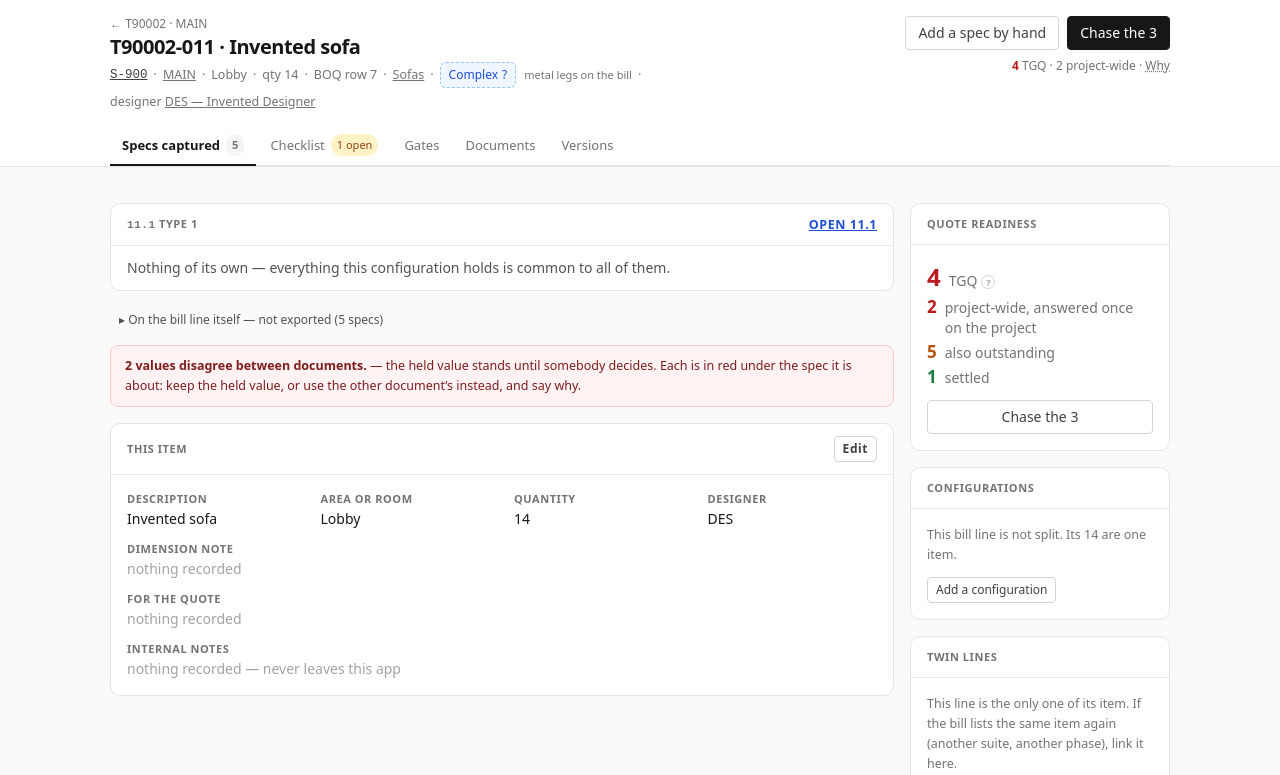
Test case: a split bill line › folds its own specs and shows what the configurations share
Expected: the text "Invented cloth" is not shown
Click the button "▸ On the bill line itself — not exported (5 specs)" at [251, 320], box 110,307 -> 392,333
(page scrolled)
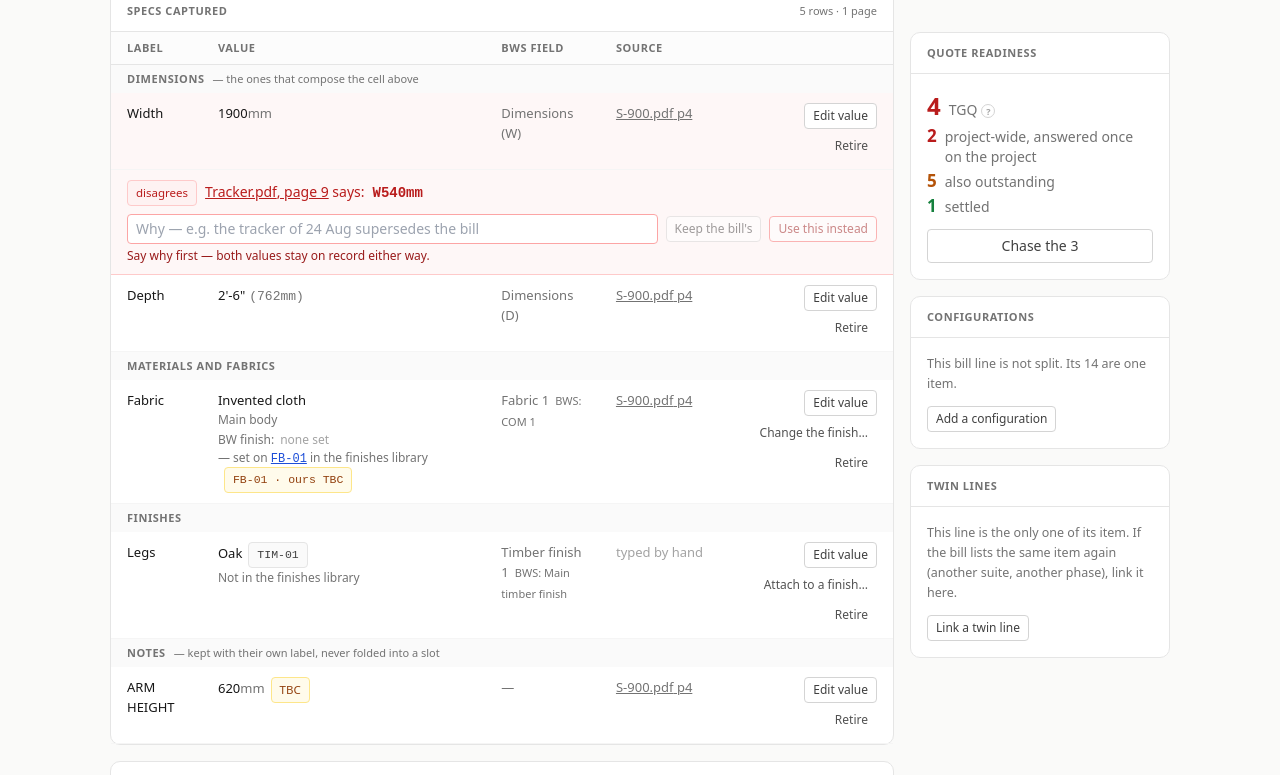
Expected: the text "Invented cloth" is shown, 218,391 -> 306,409
